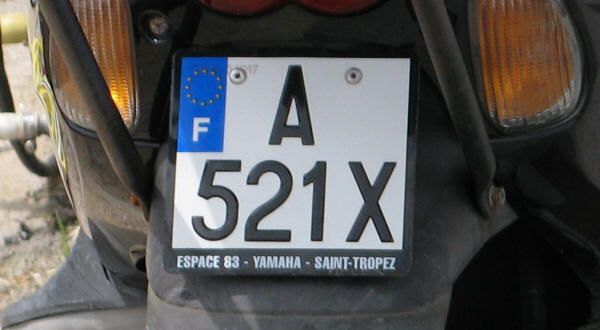license_plate: (169, 50, 413, 275)
